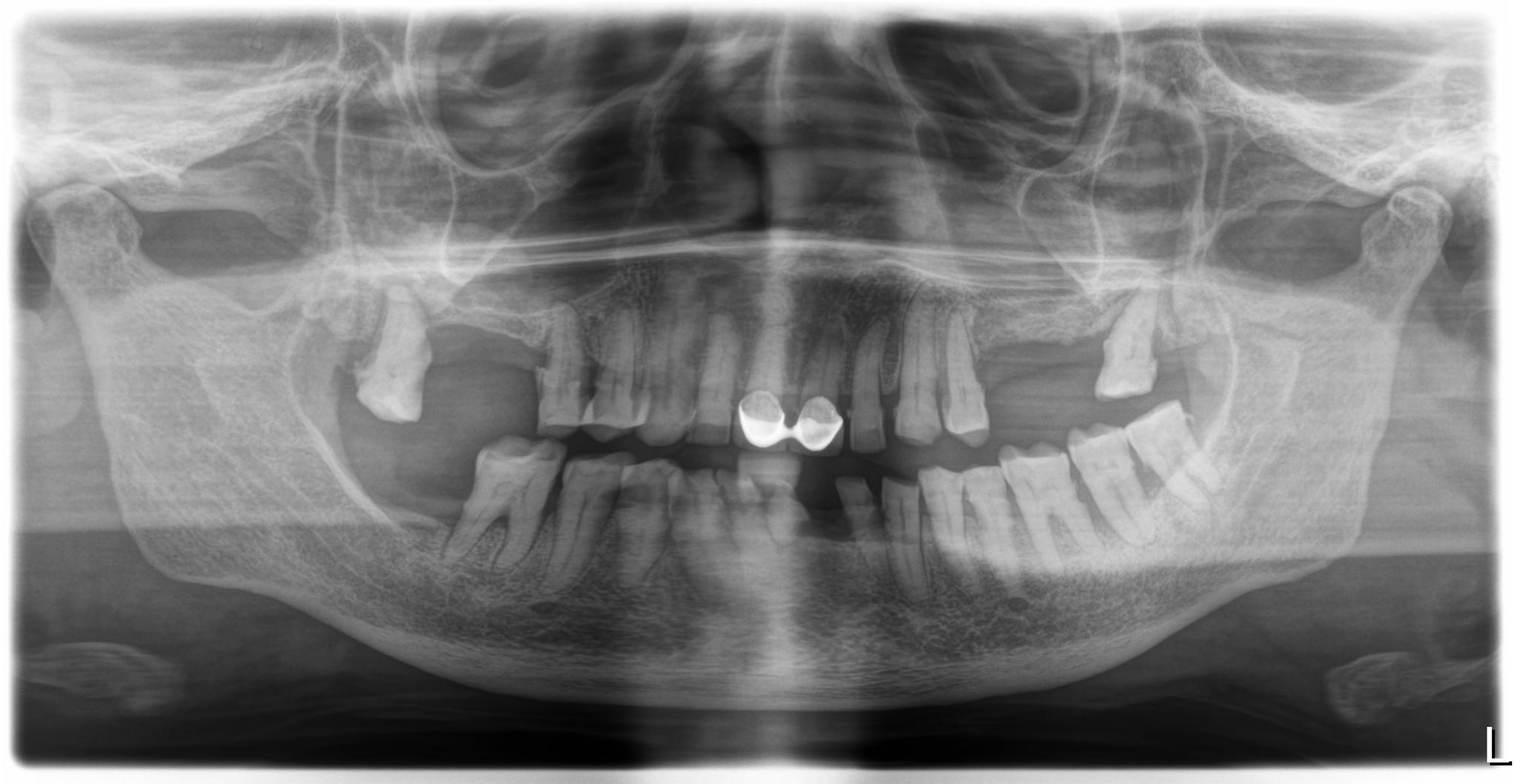Missing Tooth: (323, 451, 381, 561), (479, 295, 530, 420), (304, 297, 362, 405), (1043, 332, 1095, 443), (388, 444, 436, 561), (988, 325, 1035, 430), (433, 304, 476, 417), (804, 473, 841, 561)
